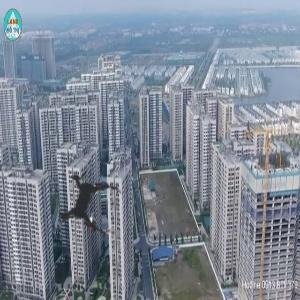drone: (24, 137, 151, 264)
